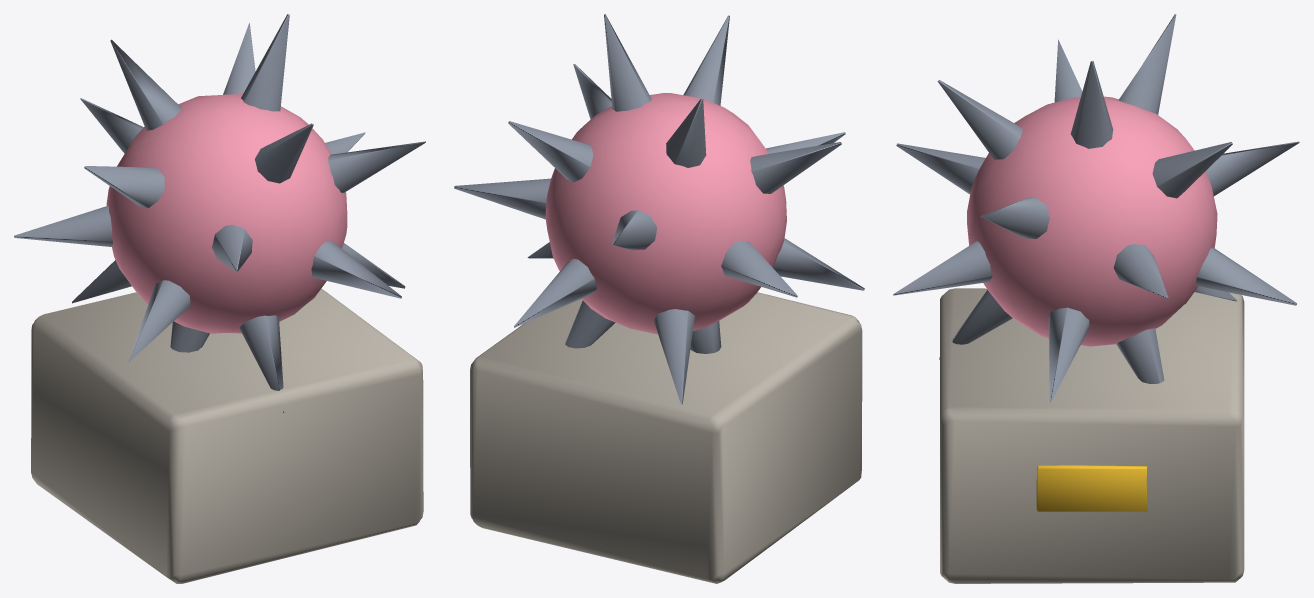
File: spiky.glb
3 renders of one model, left to right at view 1: azimuth 30°, elevation 25°; view 2: azimuth 150°, elevation 25°; view 3: azimuth 270°, elevation 25°, orthographic. The views are drawn at different scales.
Visible parts, largest first — view 1: spiky; view 2: spiky; view 3: spiky.
Part boxes in pixels (left/top/right/bottom): spiky: left=14, top=14, right=425, bottom=583; spiky: left=454, top=14, right=864, bottom=583; spiky: left=893, top=14, right=1299, bottom=583.
Bounding box in the file's own units: 1.49 × 1.95 × 1.46.
Materials: 1 (1 with a texture image).
